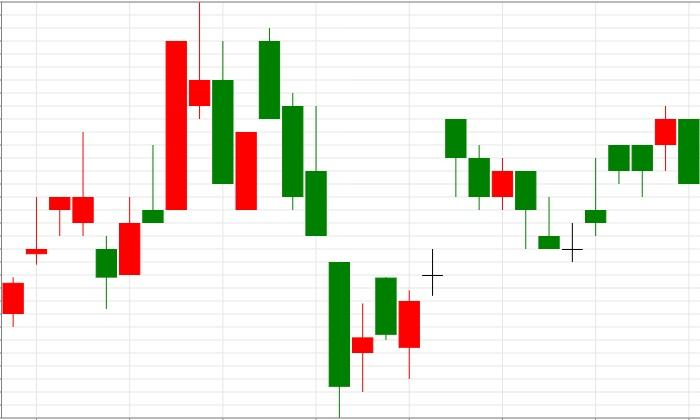shooting_star_fall: (95, 2, 210, 309)
